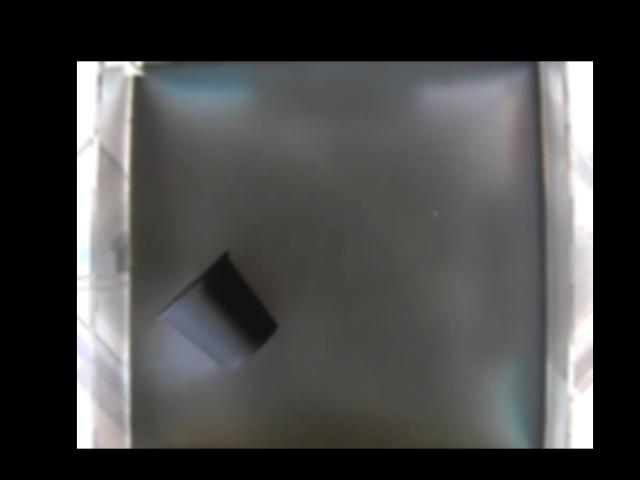Cup: (156, 247, 279, 370)
